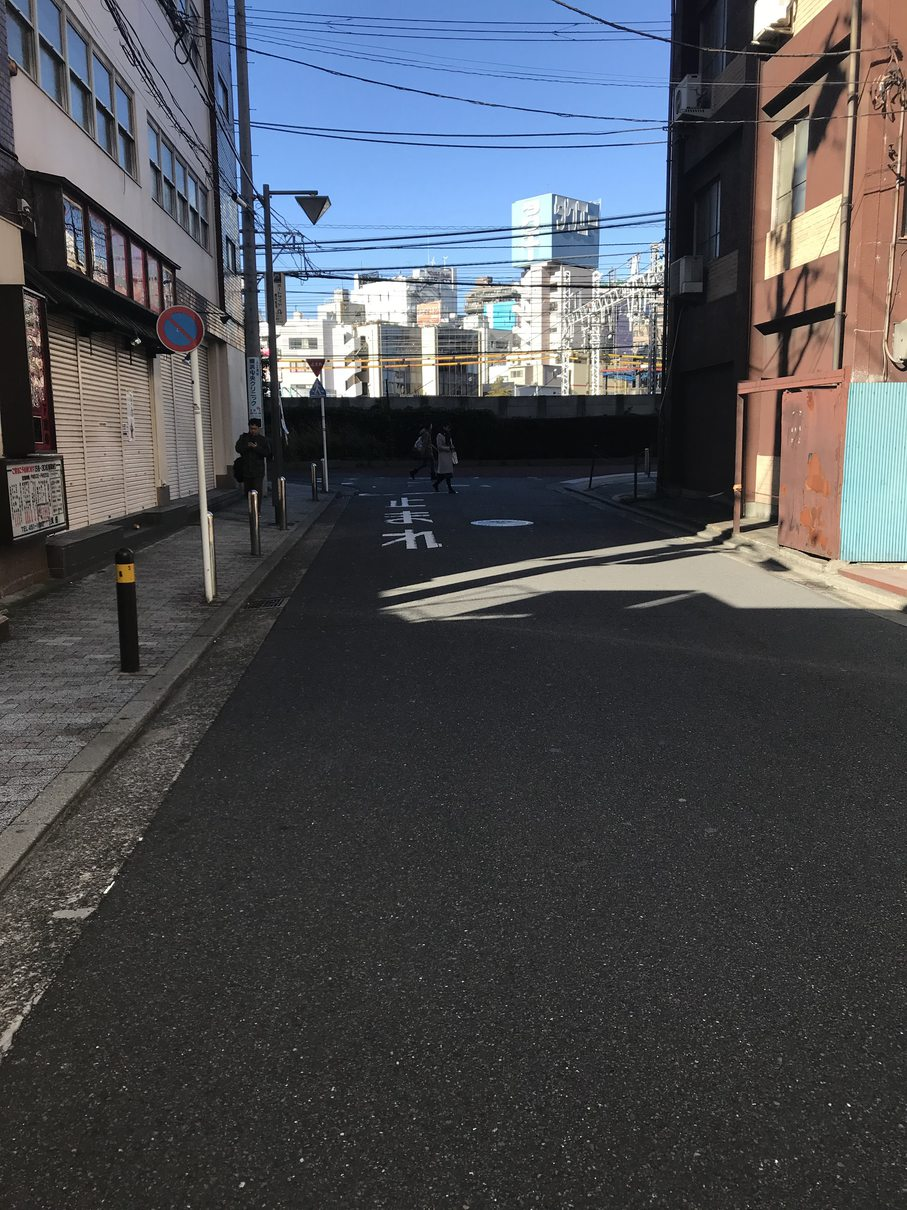stop_sign: (304, 355, 326, 376)
